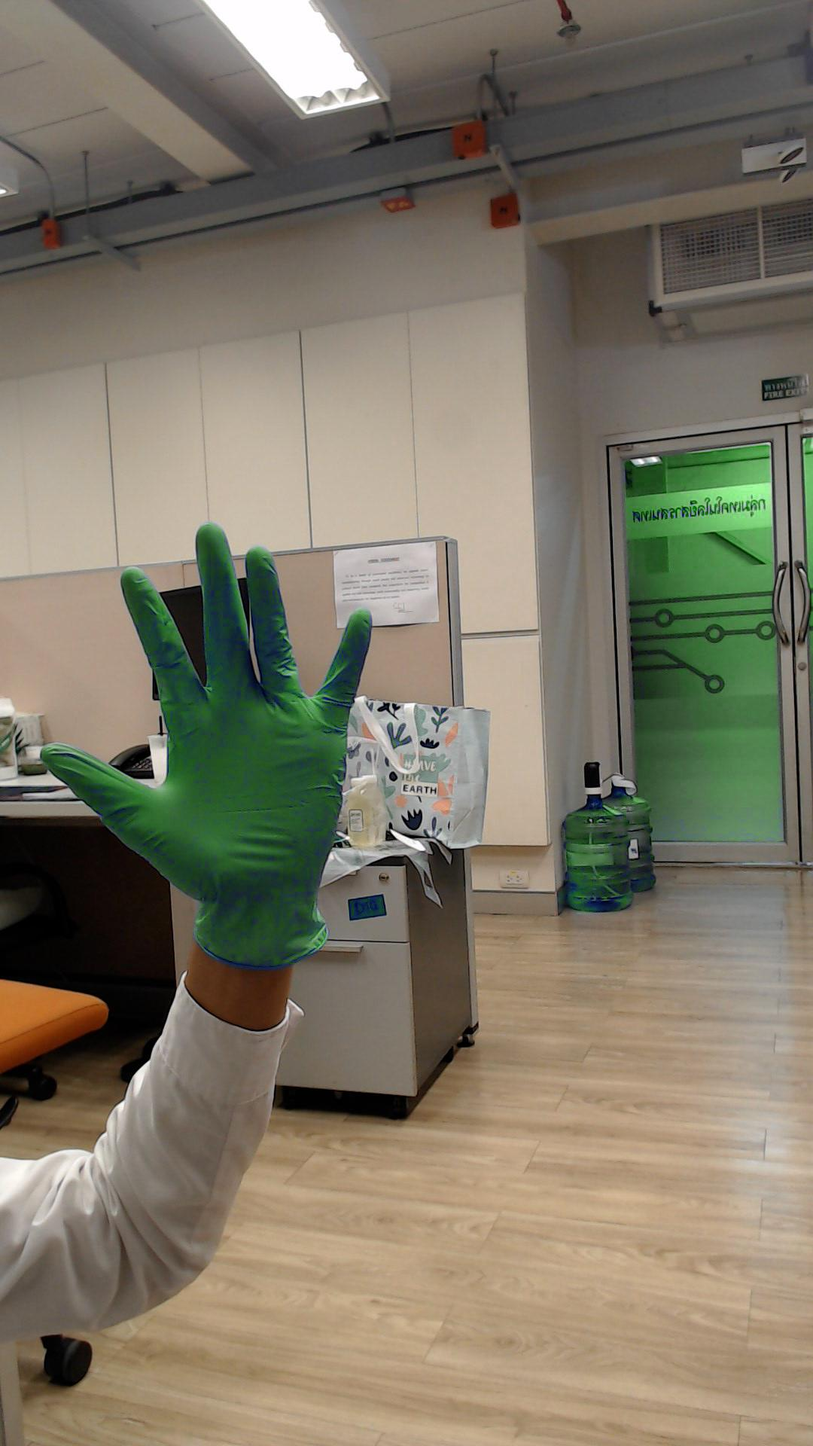gloves: (35, 512, 381, 877)
